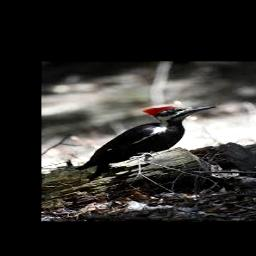Woodpecker: (76, 105, 215, 178)
